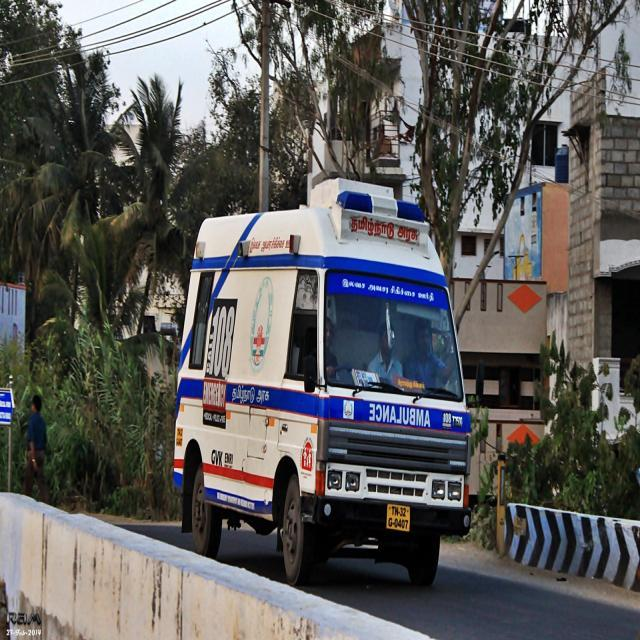ambulance: (179, 179, 476, 577)
